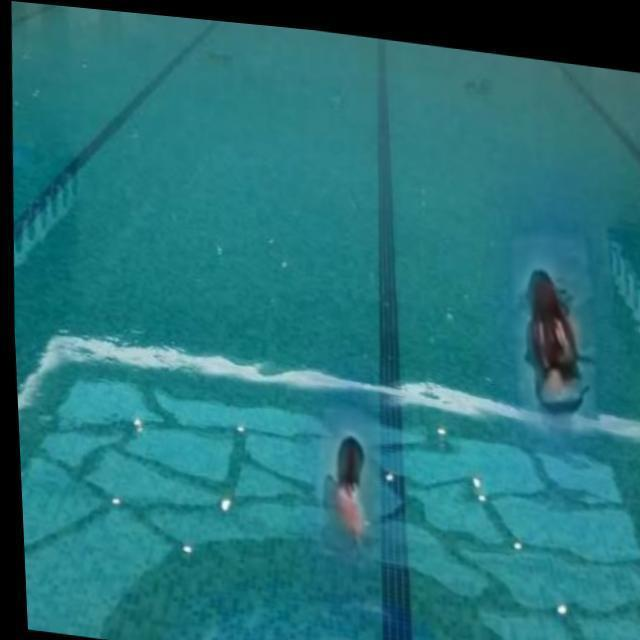swimming: (500, 246, 605, 446), (300, 420, 391, 562)
